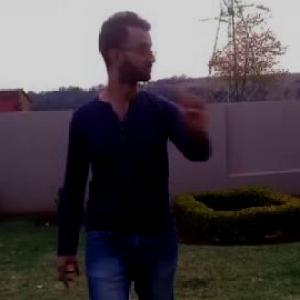takeoff-hand: (177, 73, 216, 130)
